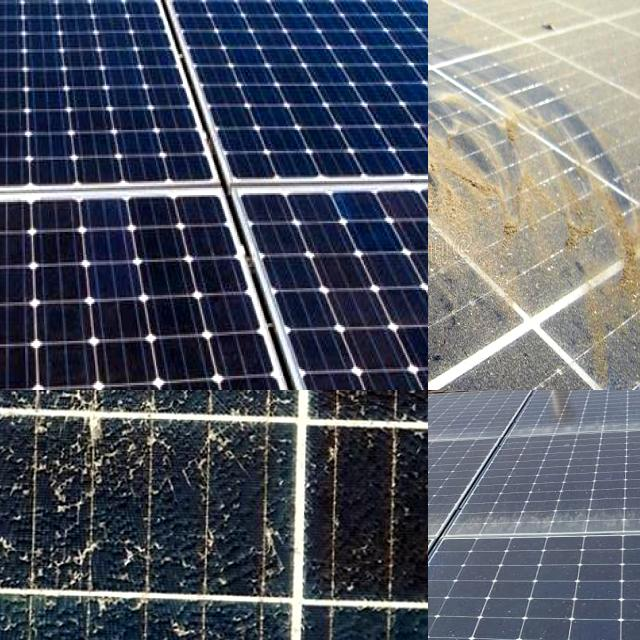crack: (0, 189, 394, 390), (145, 0, 428, 192), (204, 160, 428, 390), (0, 0, 217, 211), (112, 0, 390, 84), (0, 0, 157, 74)
dust: (553, 164, 640, 364), (428, 188, 506, 390), (428, 105, 539, 227), (428, 177, 505, 352), (428, 0, 545, 91), (428, 0, 549, 79), (562, 0, 640, 86), (428, 505, 593, 542), (453, 504, 640, 527), (520, 412, 640, 436), (428, 430, 505, 446), (428, 439, 488, 450)
hotspot: (0, 426, 282, 575), (0, 390, 222, 474)
